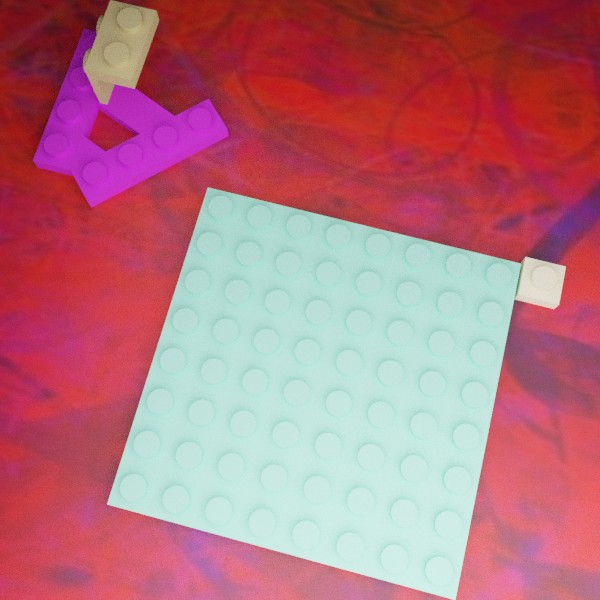lego: (107, 187, 521, 599), (32, 28, 228, 207), (83, 0, 159, 109), (513, 256, 565, 309)
